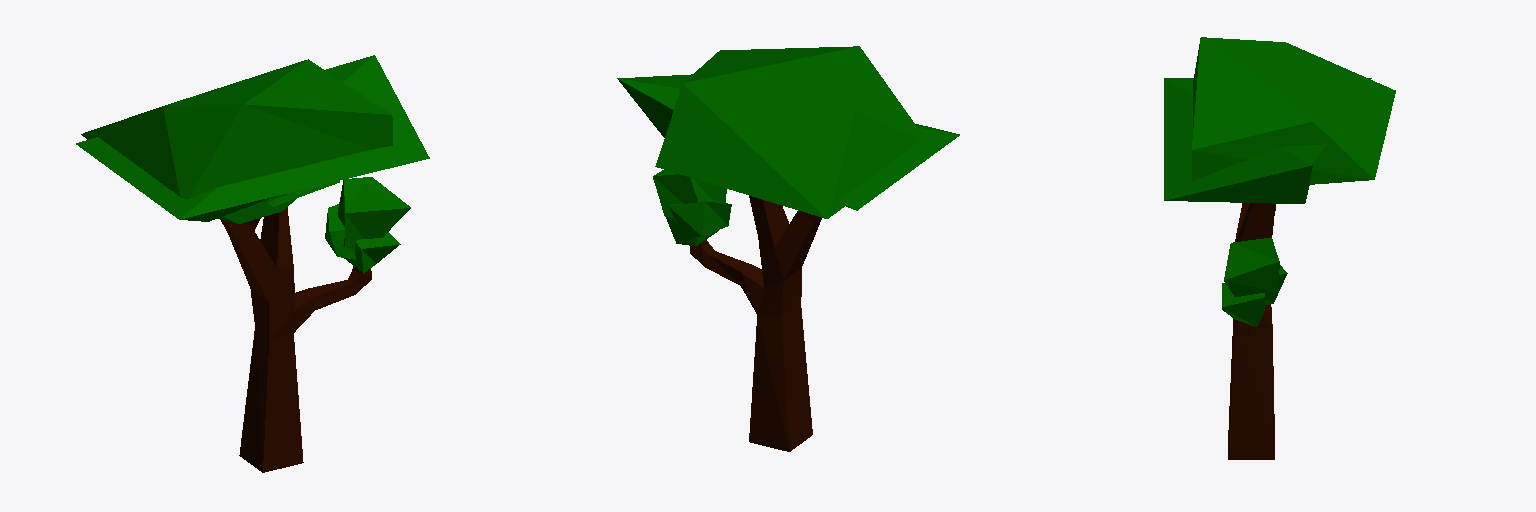
The model's file is tree_with_transp_leafs.obj.
3 renders of one model, left to right at view 1: azimuth 30°, elevation 25°; view 2: azimuth 150°, elevation 25°; view 3: azimuth 270°, elevation 25°, orthographic.
Visible parts, largest first — view 1: Cube.002_Cube.008; view 2: Cube.002_Cube.008; view 3: Cube.002_Cube.008.
Boxes of the visible parts, x1=… form: Cube.002_Cube.008: x1=76, y1=55, x2=429, y2=472; Cube.002_Cube.008: x1=617, y1=46, x2=959, y2=451; Cube.002_Cube.008: x1=1164, y1=37, x2=1395, y2=459.
Size of the model in its own units: 5.42 by 7.42 by 4.05.